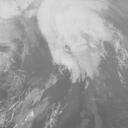cyclone: (45, 35, 100, 85)
